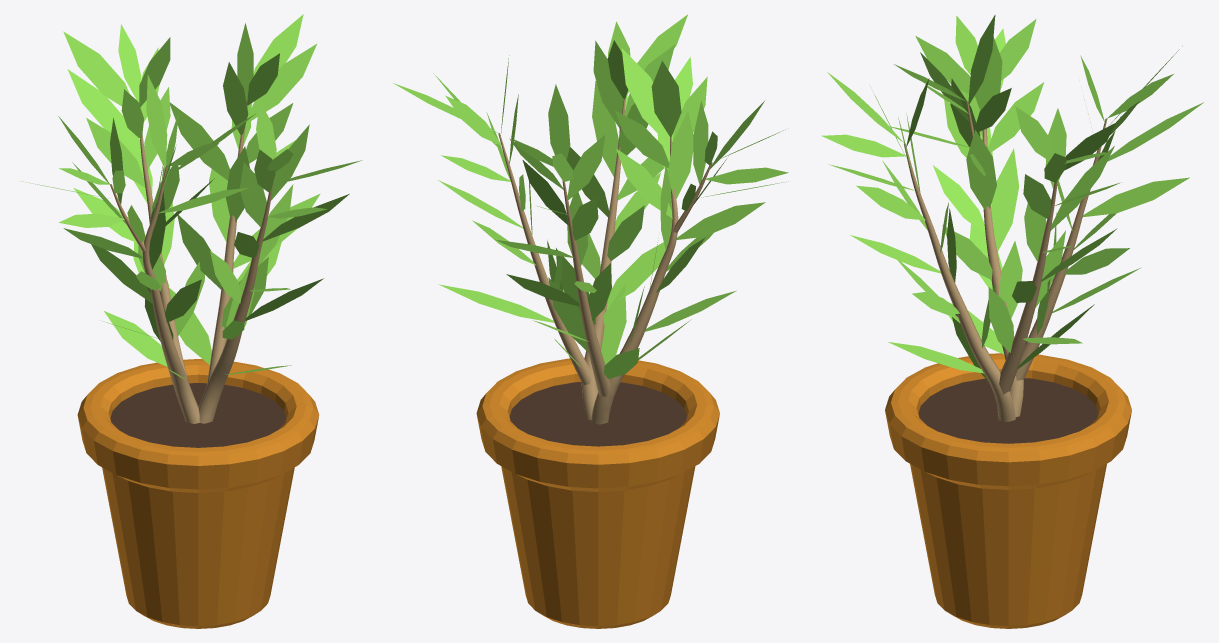
Rendered from plant_falling.glb.
3 renders of one model, left to right at view 1: azimuth 30°, elevation 25°; view 2: azimuth 150°, elevation 25°; view 3: azimuth 270°, elevation 25°, orthographic. The views are drawn at different scales.
Parts seen in each view (by area): view 1: Plant; view 2: Plant; view 3: Plant.
Boxes of the visible parts, x1,y1,x2,y2 form: Plant: (20,14,362,628); Plant: (393,14,788,628); Plant: (821,14,1203,628).
Bounding box in the file's own units: 0.7554 × 1.15 × 0.7187.
